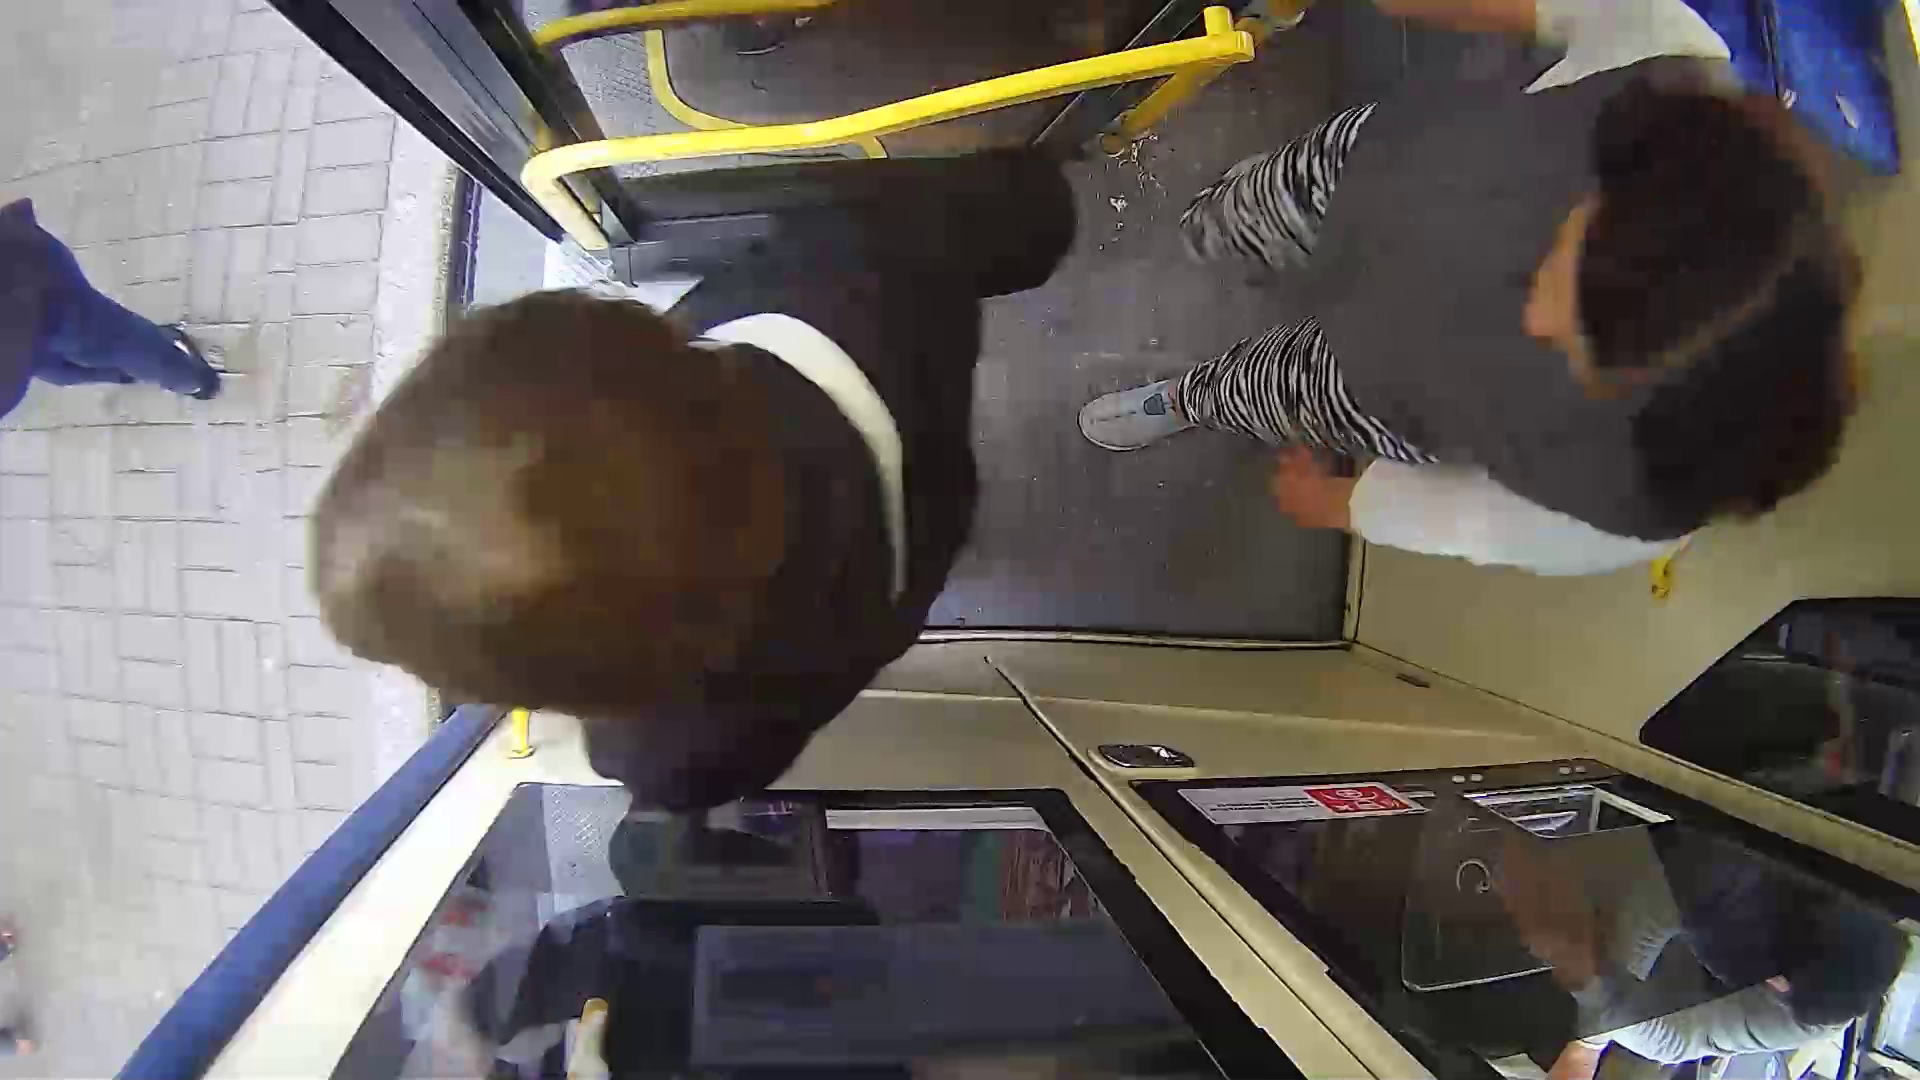person: (337, 150, 1143, 810)
